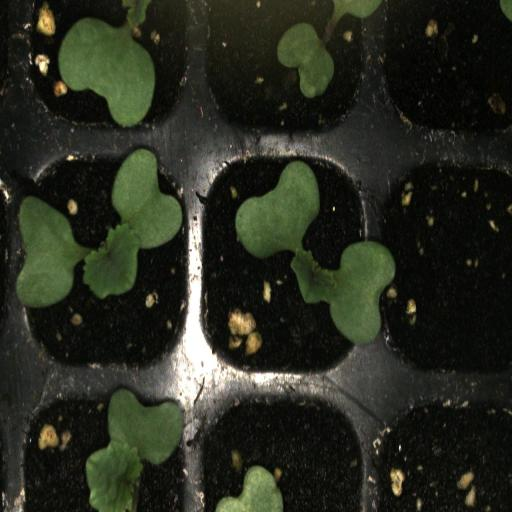Folha: (58, 0, 155, 128), (276, 18, 334, 98), (166, 0, 240, 57), (215, 465, 283, 512)
Germinacao: (1, 146, 194, 386), (192, 142, 365, 386), (17, 390, 194, 512)
